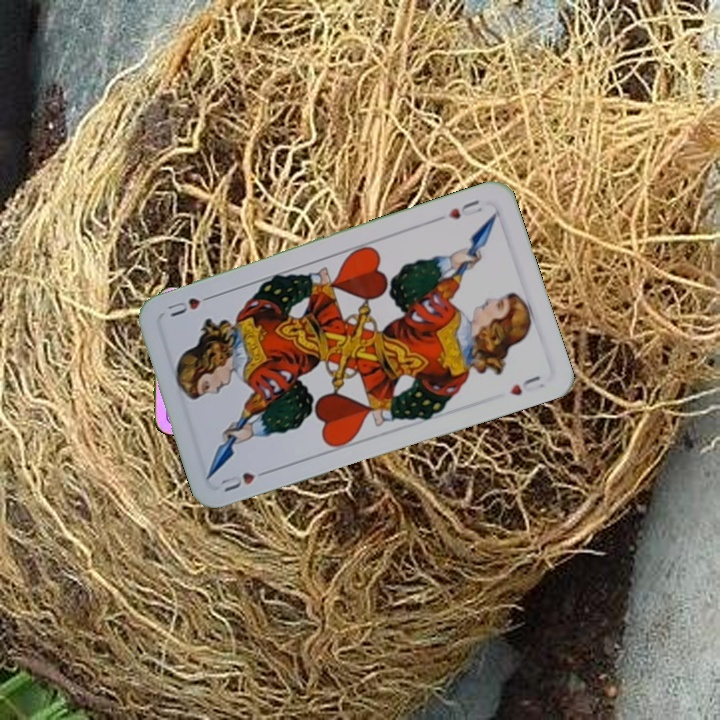HU: (216, 465, 273, 495), (444, 195, 485, 222)
